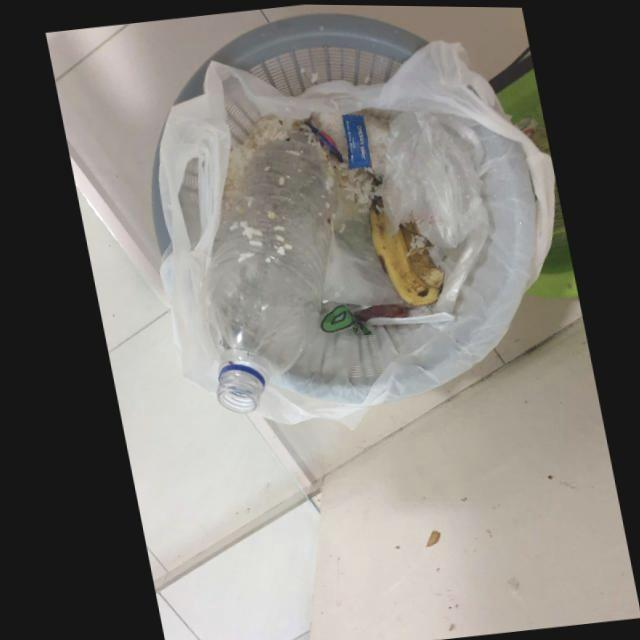food_wrapper: (341, 112, 370, 167)
left_over_food: (308, 111, 388, 182)
plastic_bag: (378, 108, 492, 311)
plastic_bottle: (199, 113, 335, 412)
